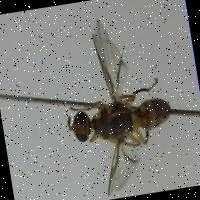Oriental-fruit-fly: (50, 6, 190, 198)
